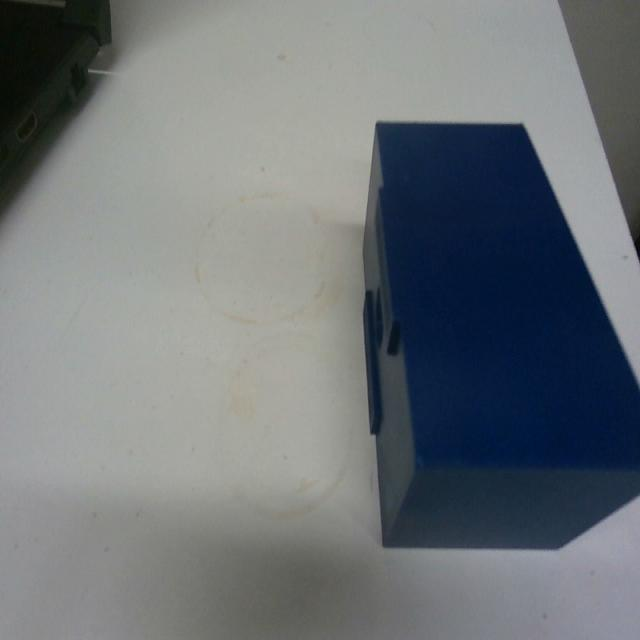Blue Cuboid: (358, 116, 639, 552)
